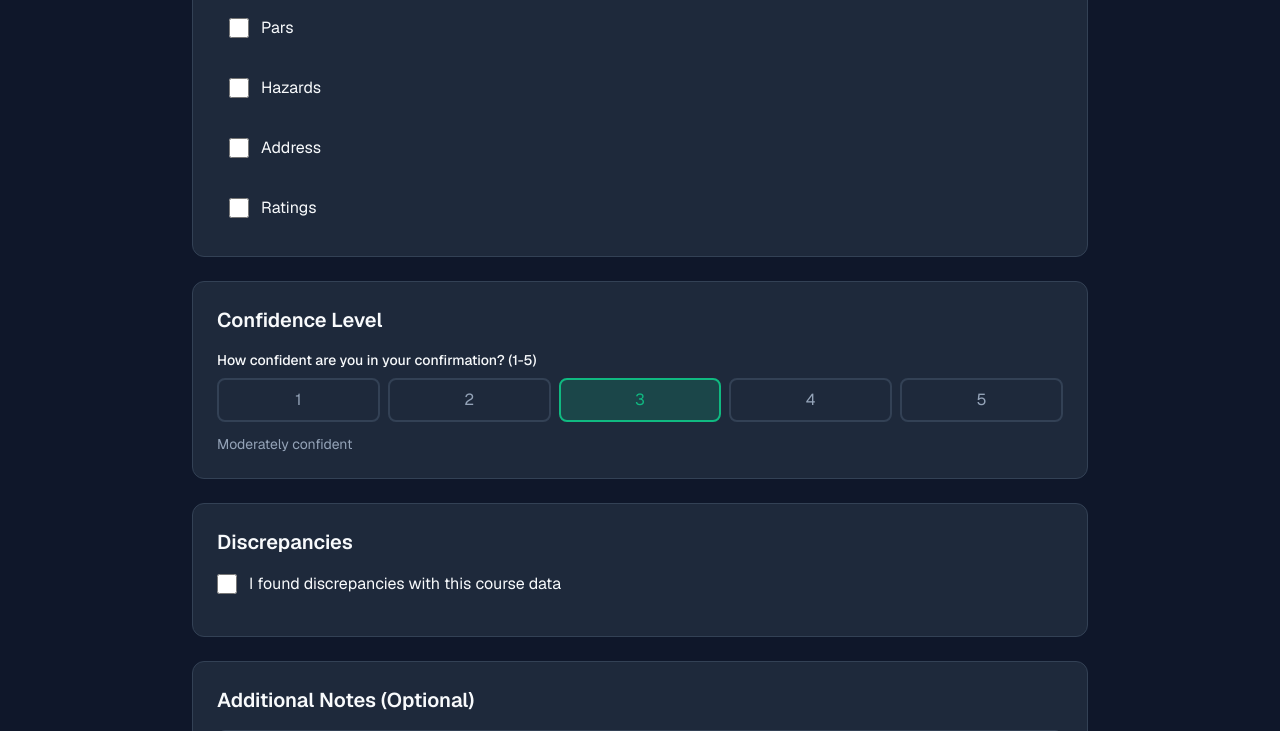
Test: ConfirmCoursePage › should allow selecting confidence level
(page scrolled)
Click the button "5" at (982, 400), box [900, 378, 1063, 422]
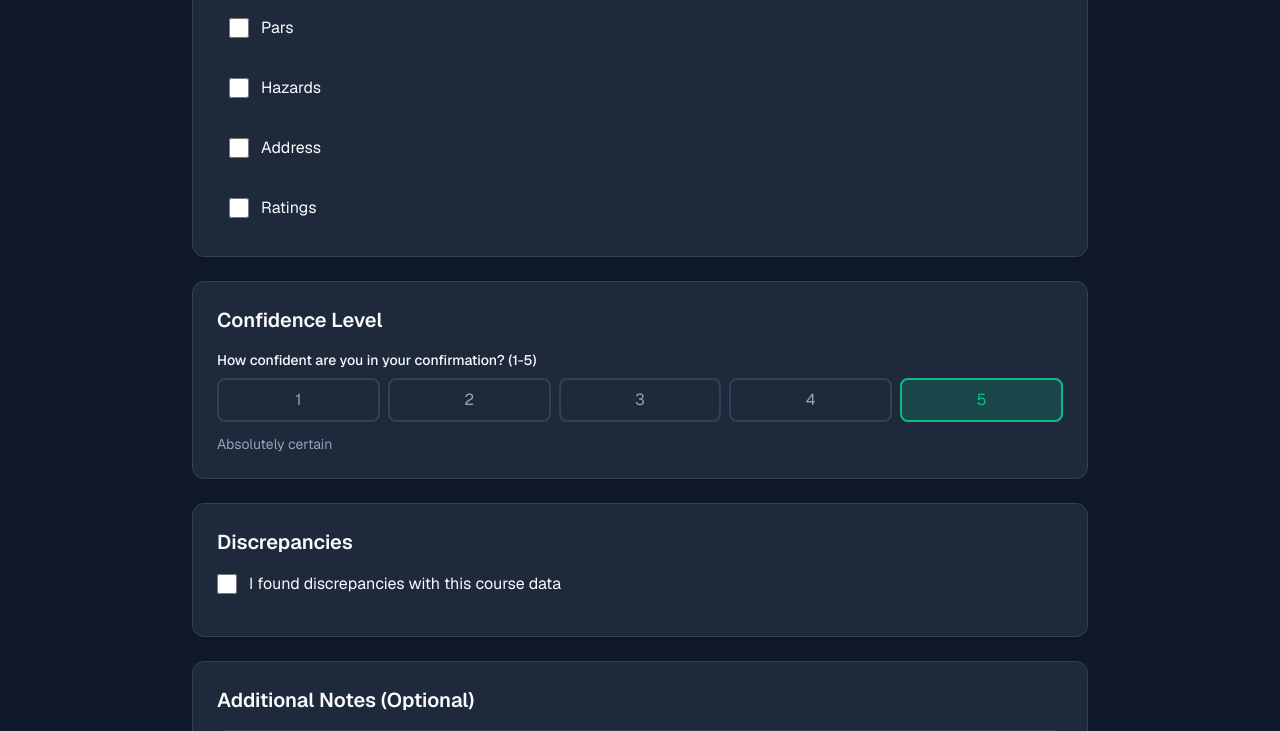
Result: the text "Absolutely certain" is shown at [217, 435, 332, 453]
